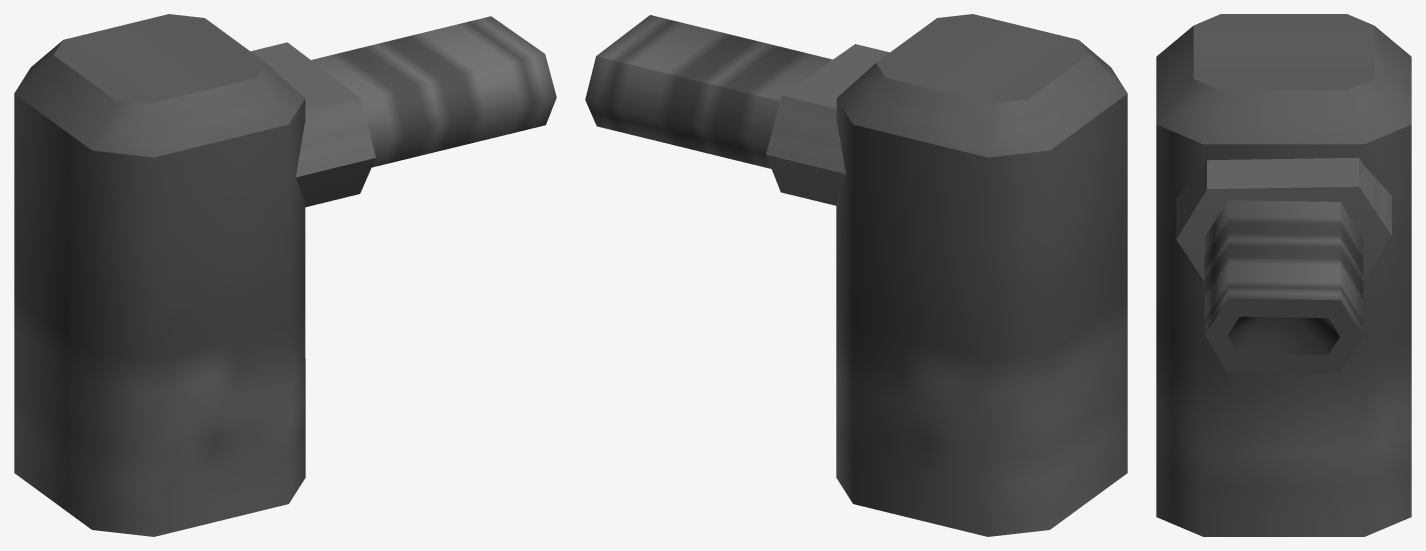
The model's file is MachineGun1.fbx.
3 renders of one model, left to right at view 1: azimuth 30°, elevation 25°; view 2: azimuth 150°, elevation 25°; view 3: azimuth 270°, elevation 25°, orthographic. The views are drawn at different scales.
Visible parts, largest first — view 1: MachineGun1; view 2: MachineGun1; view 3: MachineGun1.
Boxes of the visible parts, x1,y1,x2,y2 form: MachineGun1: [14, 14, 556, 536]; MachineGun1: [585, 14, 1127, 536]; MachineGun1: [1156, 14, 1411, 536].
Size of the model in its own units: 0.6324 by 0.5409 by 0.29.
